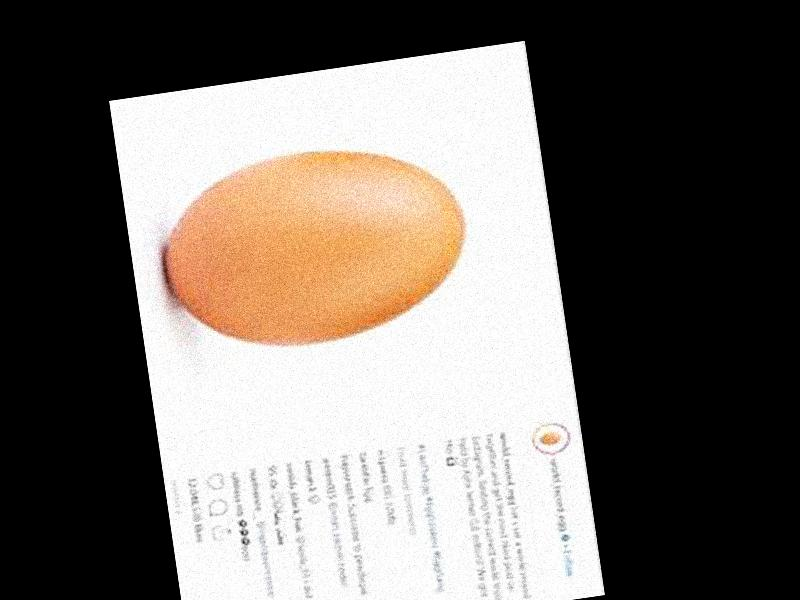Eggs: (155, 129, 478, 361)
